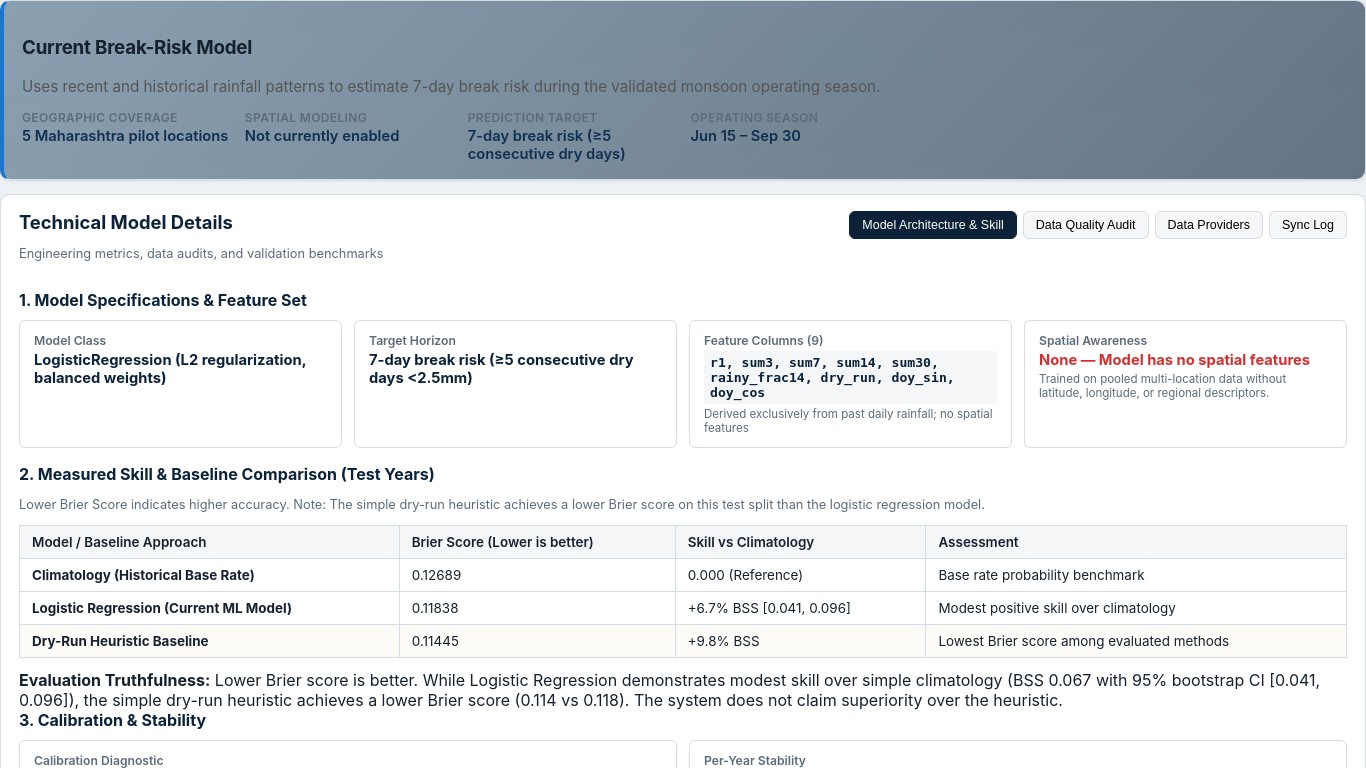
Test: TechnicalDiagnostics › switches to Data Quality Audit tab and shows audit metrics
Click the button with test id "tech-tab-quality" at (1086, 225), box [1023,211,1148,239]
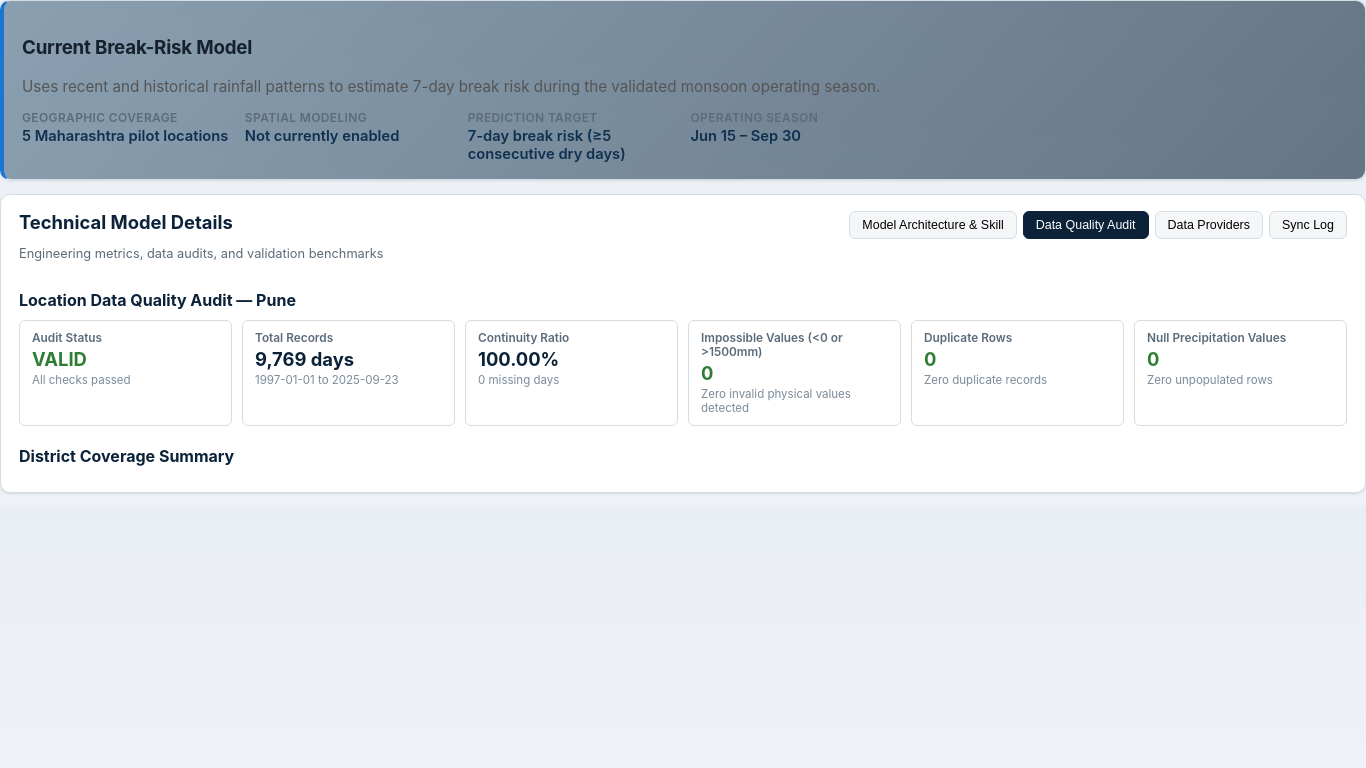
Now the element with test id "panel-quality-diagnostics" is shown, box [19,290,1347,466]
Now the text "Zero invalid physical values detected" is shown, box [701,387,851,415]
Now the text "Zero duplicate records" is shown, box [924,373,1047,387]
